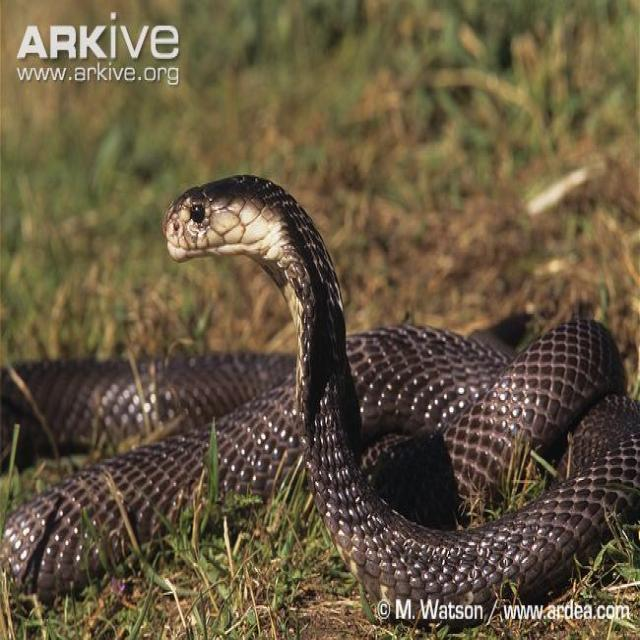Snake: (0, 170, 638, 622)
